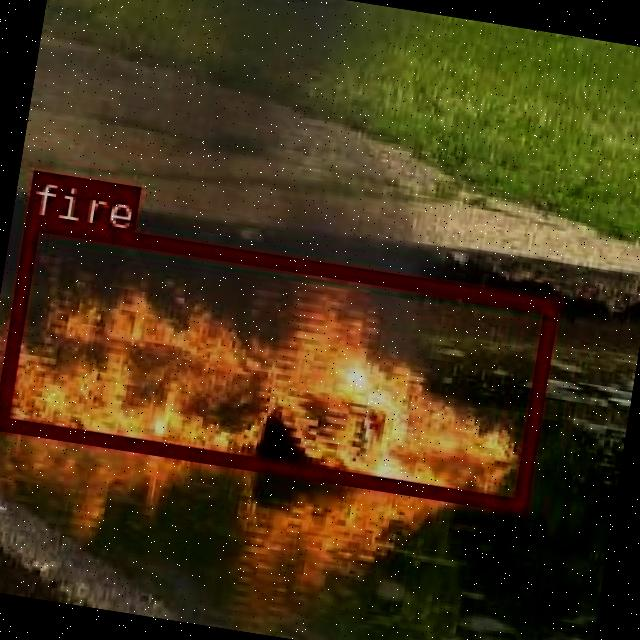fire: (0, 213, 557, 509)
